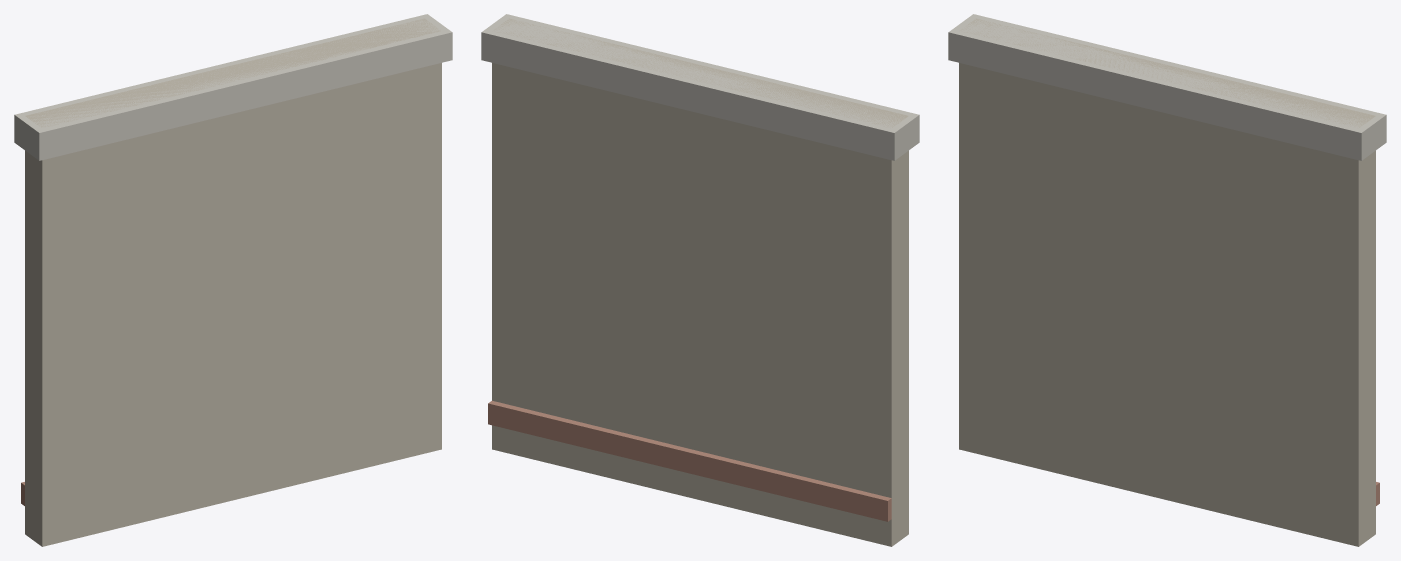
The model's file is iz3_build_defense_wood_wall_01.glb.
3 renders of one model, left to right at view 1: azimuth 30°, elevation 25°; view 2: azimuth 150°, elevation 25°; view 3: azimuth 330°, elevation 25°, orthographic.
Visible parts, largest first — view 1: wall, cornice; view 2: wall, cornice, sill; view 3: wall, cornice.
Part boxes in pixels (x1,y1,x2,y2): wall: (25,18,441,546); cornice: (14,14,452,160); wall: (492,18,908,546); cornice: (481,14,919,160); sill: (488,400,891,521); wall: (959,18,1375,546); cornice: (948,14,1386,160).
Bounding box in the file's own units: 2.48 × 2.4 × 0.26.
